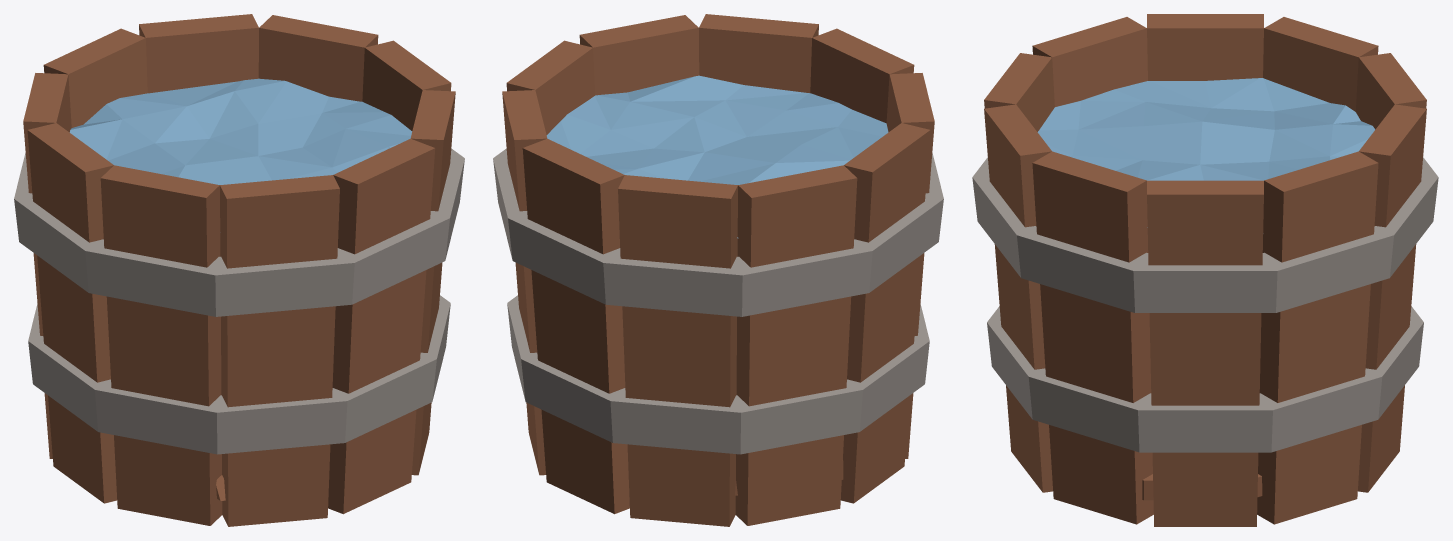
Rendered from water_element_animated.fbx.
The picture shows the model from 3 angles, left to right: view 1: azimuth 30°, elevation 25°; view 2: azimuth 150°, elevation 25°; view 3: azimuth 270°, elevation 25°; orthographic projection.
Parts seen in each view (by area): view 1: wasser_element, wasser_element.001; view 2: wasser_element, wasser_element.001; view 3: wasser_element, wasser_element.001.
Boxes of the visible parts, x1,y1,x2,y2 form: wasser_element: (14, 14, 464, 526); wasser_element.001: (69, 78, 412, 184); wasser_element: (493, 14, 943, 526); wasser_element.001: (546, 75, 888, 238); wasser_element: (972, 14, 1438, 526); wasser_element.001: (1037, 78, 1375, 227).
Bounding box in the file's own units: 234 × 200 × 246.
